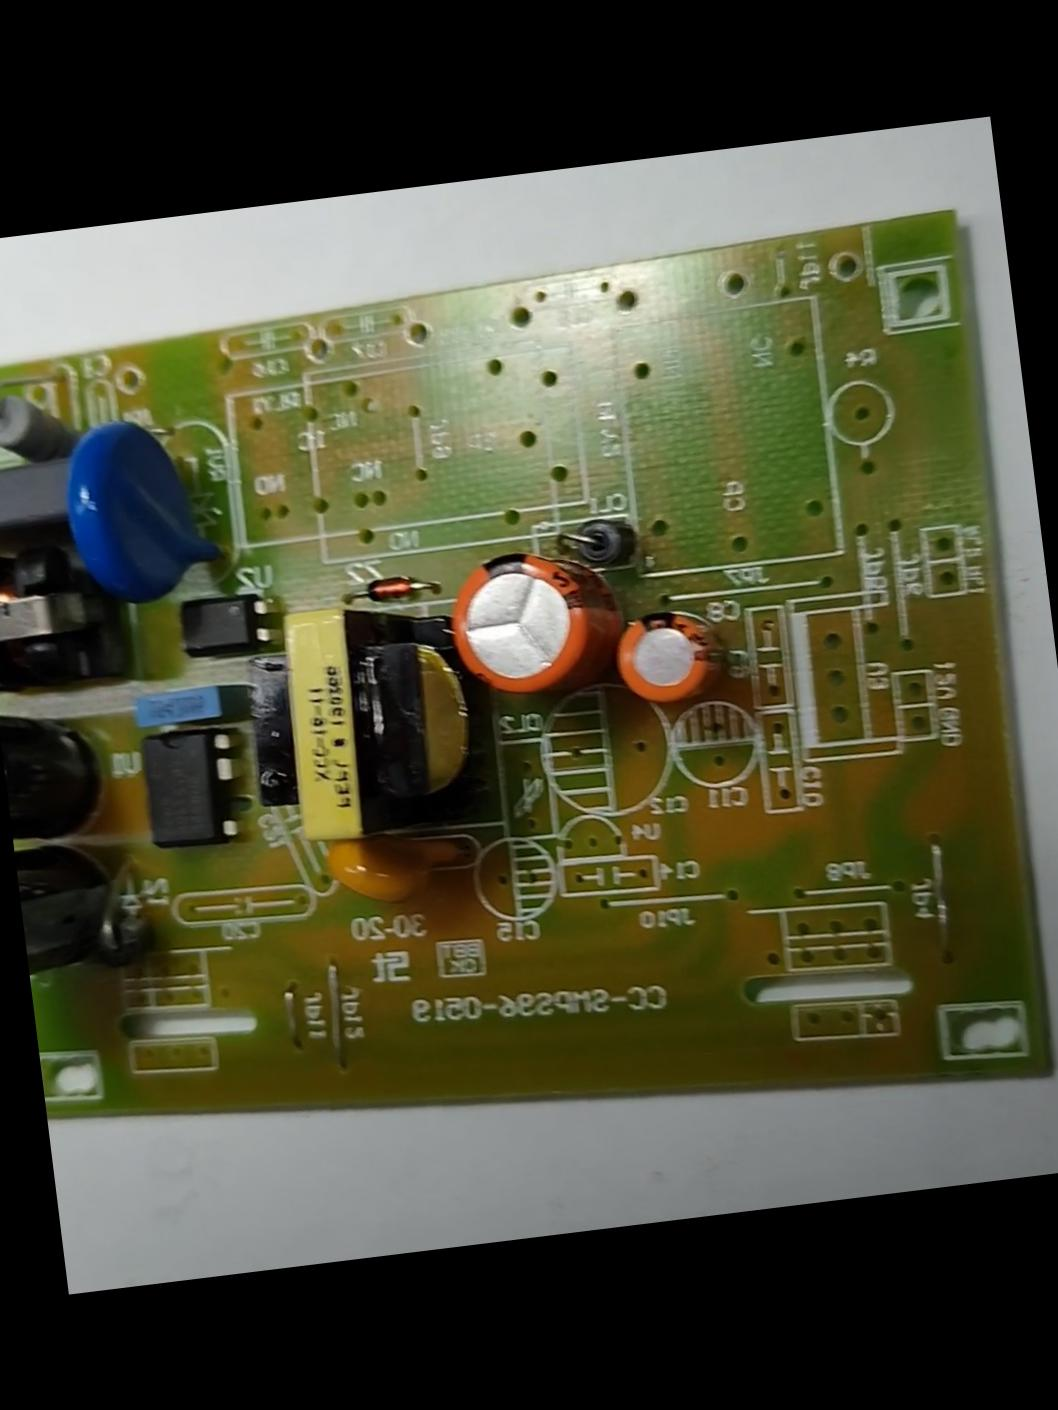Cap1: (438, 537, 635, 699)
Cap2: (610, 603, 730, 702)
Cap3: (0, 689, 106, 849)
Cap4: (13, 836, 126, 984)
MOSFET: (131, 724, 242, 854)
Mov: (58, 406, 224, 608)
Resistor: (0, 384, 74, 462)
Transformer: (237, 590, 482, 853), (0, 529, 120, 697)
